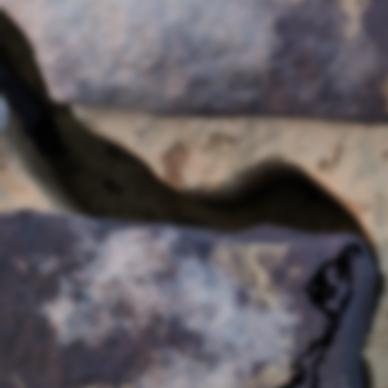brick: (0, 209, 357, 387), (318, 242, 376, 387), (297, 347, 321, 387)
broken_brick: (2, 0, 387, 125), (0, 98, 7, 131)
crack: (0, 0, 385, 387), (360, 358, 371, 387)
